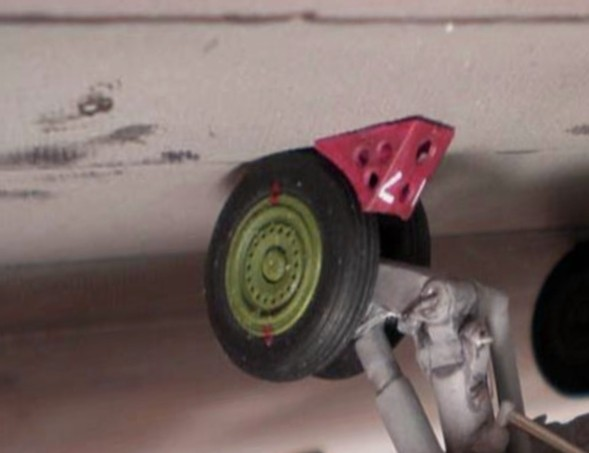chock: (309, 114, 456, 233)
wheel: (198, 142, 380, 394), (524, 229, 589, 409)
